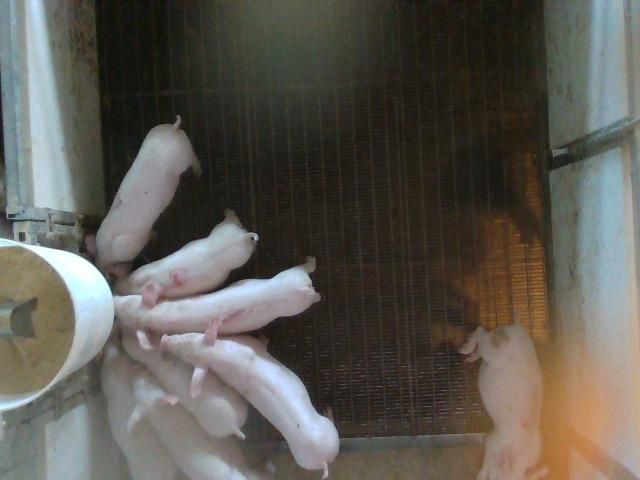pig-1: (116, 258, 320, 349)
pig-3: (459, 318, 549, 478)
pig-4: (115, 210, 259, 298)
